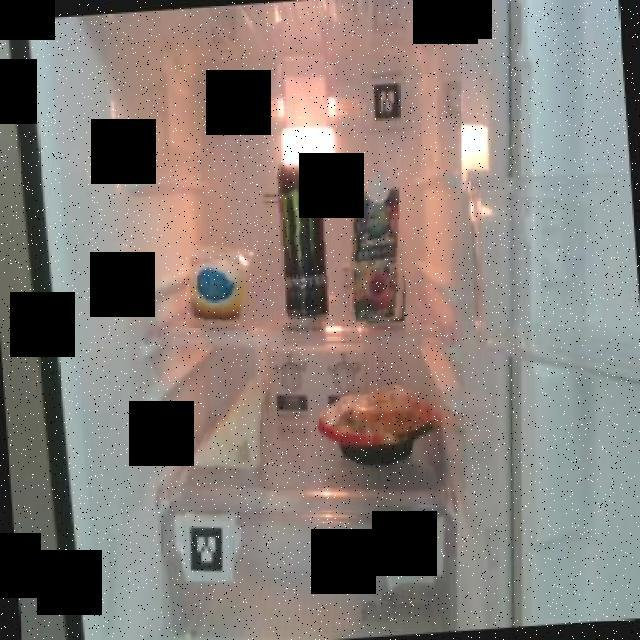bento: (315, 388, 440, 468)
energy_drink: (271, 162, 329, 326)
pudding: (186, 234, 257, 328)
sandwich: (181, 353, 274, 478)
smoothie: (350, 170, 412, 324)
